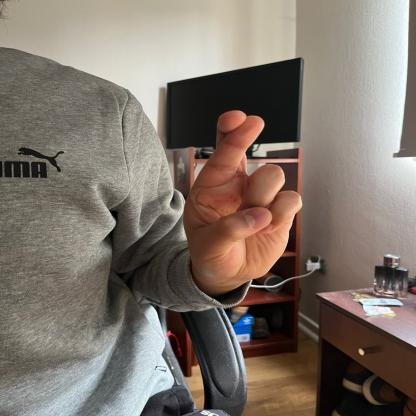R: (186, 105, 304, 284)
